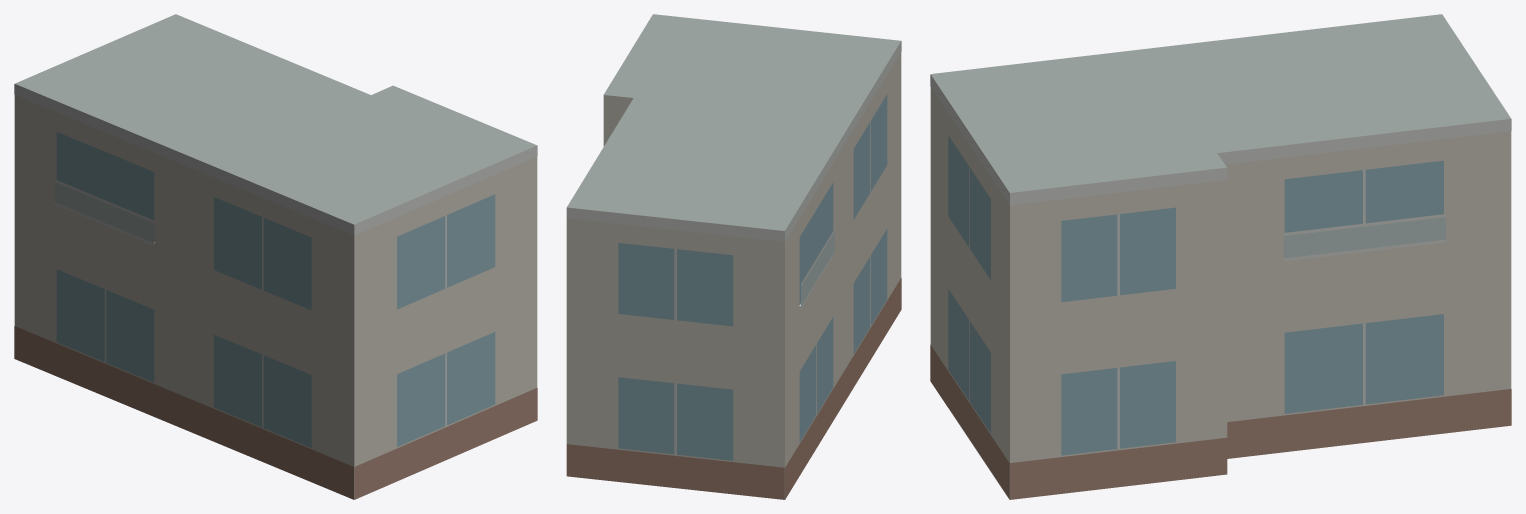
Rendered from survey-upis-32694389.glb.
The picture shows the model from 3 angles, left to right: view 1: azimuth 30°, elevation 25°; view 2: azimuth 150°, elevation 25°; view 3: azimuth 270°, elevation 25°; orthographic projection. The views are drawn at different scales.
Parts seen in each view (by area): view 1: survey-upis-32694389.tmp; view 2: survey-upis-32694389.tmp; view 3: survey-upis-32694389.tmp.
Boxes of the visible parts, box(x1,y1,x2,y2) form: survey-upis-32694389.tmp: box(14, 14, 537, 499); survey-upis-32694389.tmp: box(566, 14, 901, 499); survey-upis-32694389.tmp: box(930, 14, 1511, 499).
Bounding box in the file's own units: 7.64 × 6.1 × 10.48.
